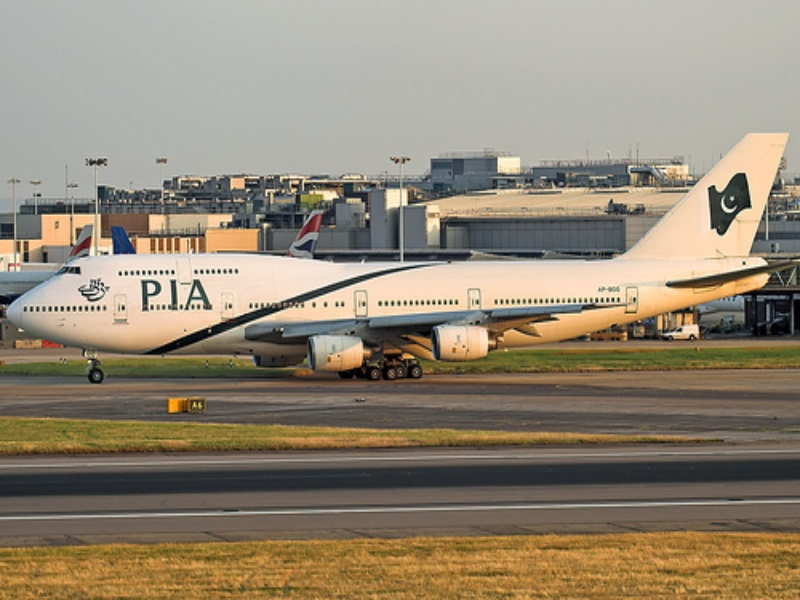car: (662, 325, 698, 342)
